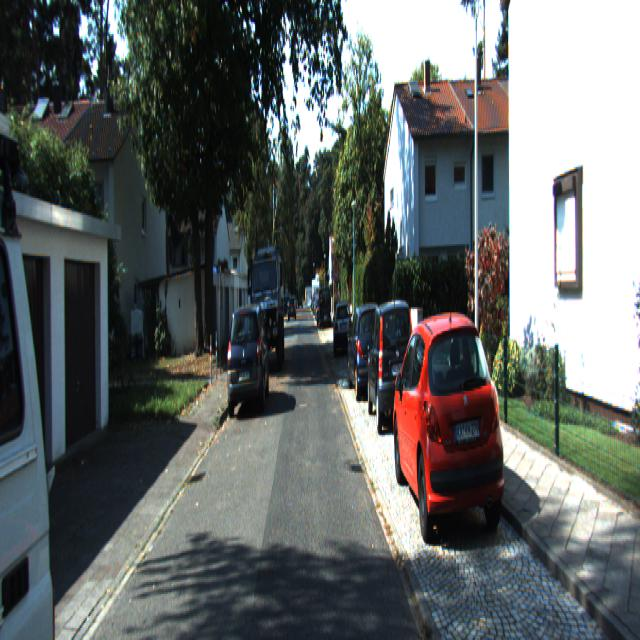Car: (390, 307, 508, 560), (366, 300, 418, 434), (226, 303, 270, 421), (347, 303, 388, 405), (251, 249, 285, 372), (333, 298, 353, 356), (318, 287, 332, 329)
